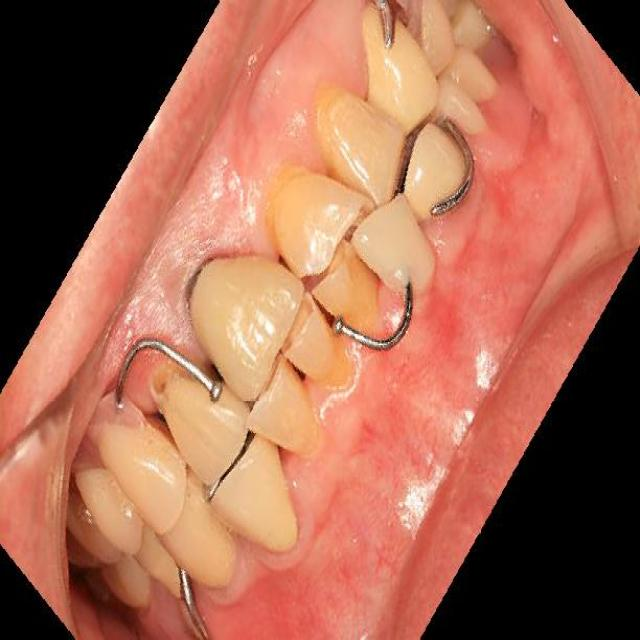caries: (175, 250, 221, 316), (142, 358, 188, 417)
